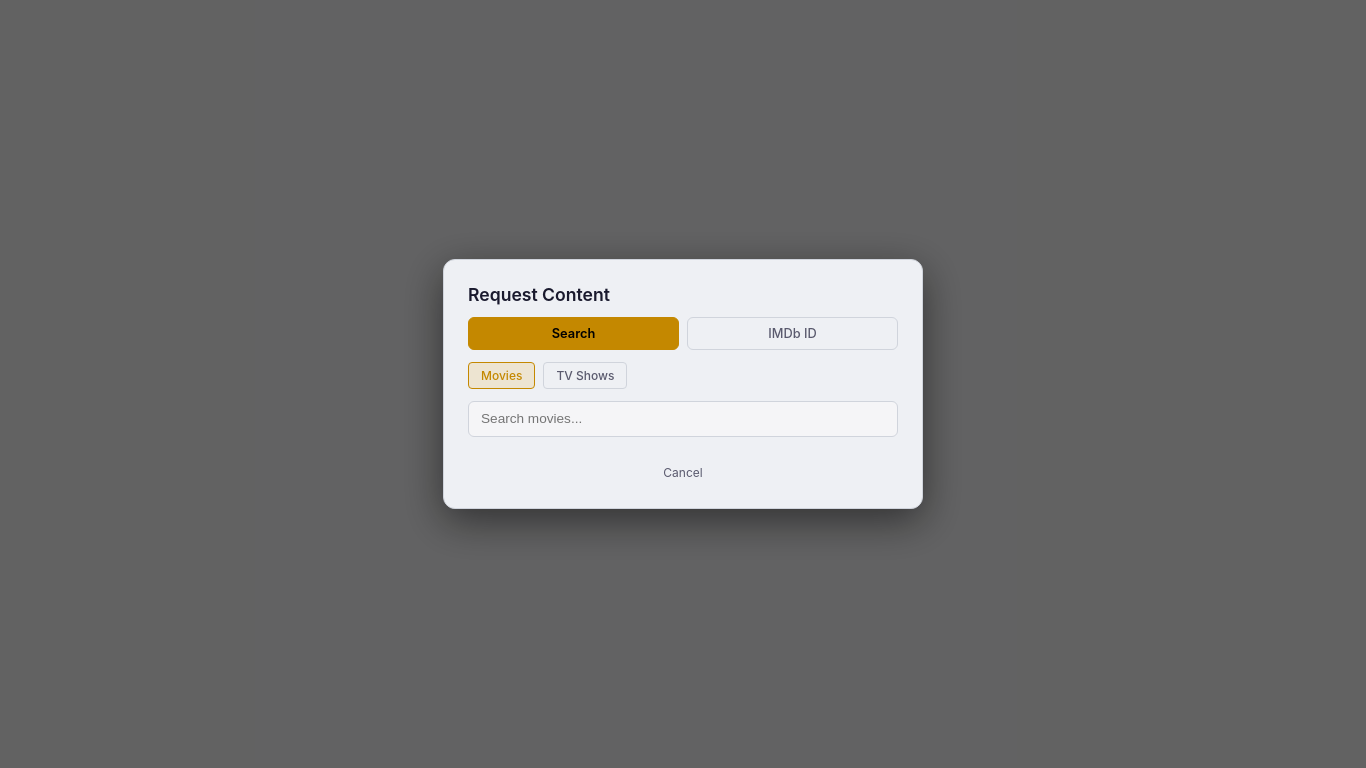
ContentRequestForm › switches to IMDb ID mode when clicking IMDb tab
Click the button "IMDb ID" at {"x": 792, "y": 334}, box [687,317,898,350]
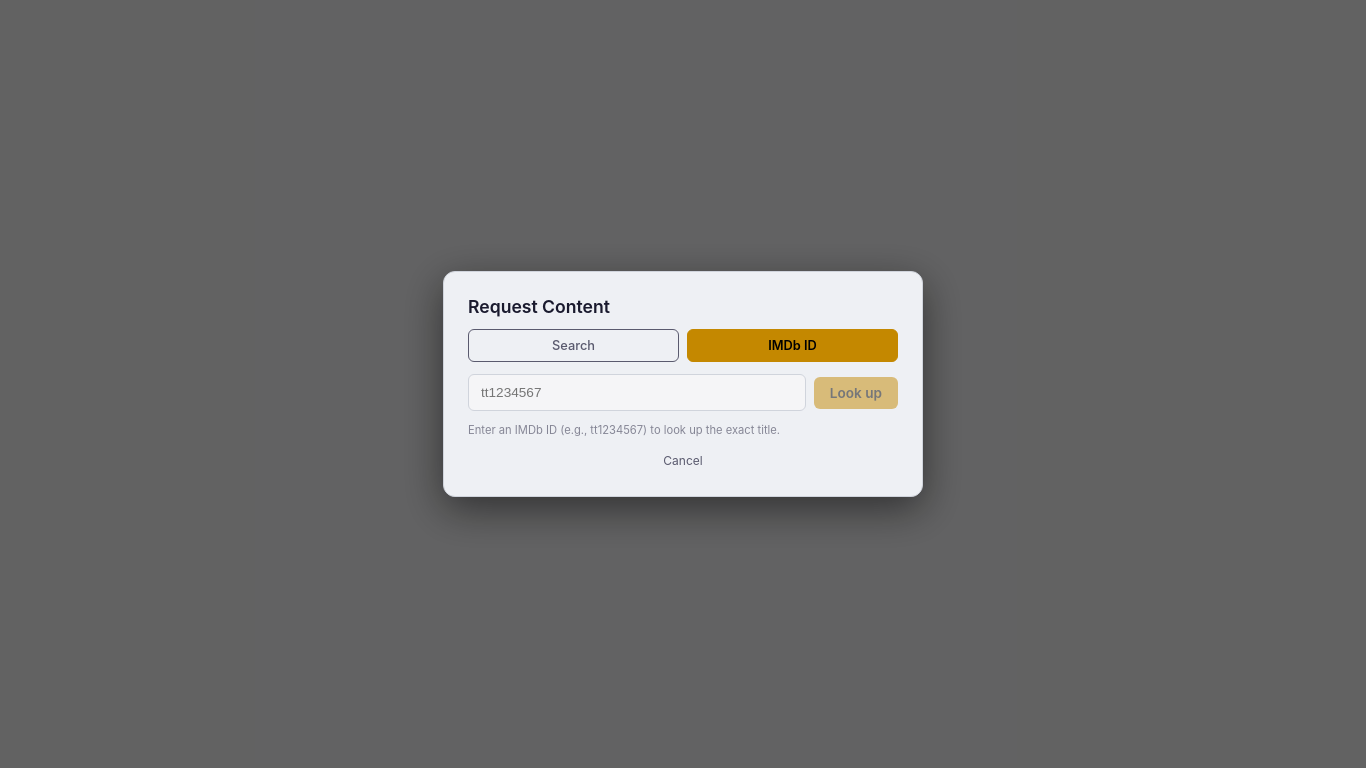
Expected: the field with placeholder "tt1234567" is shown, [468,374,806,411]
Expected: the button "Look up" is shown, [814,376,898,408]
